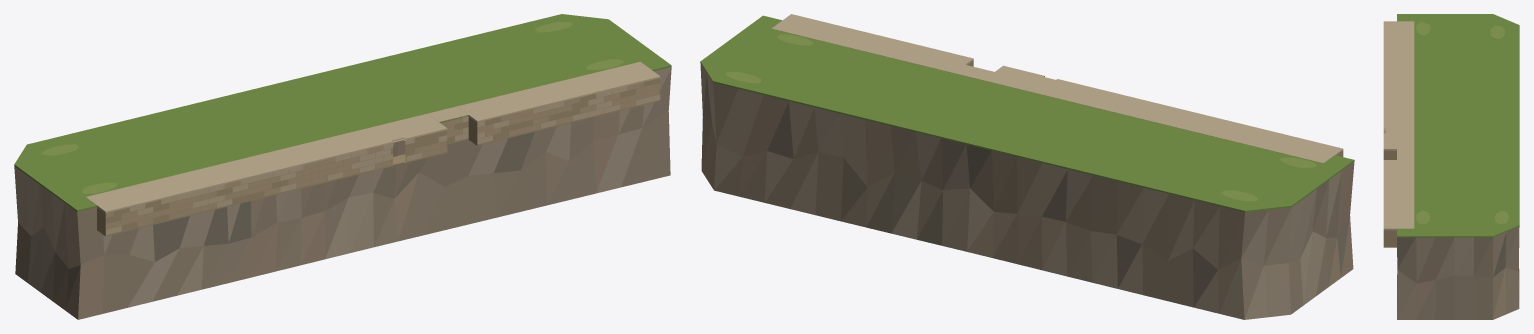
Rendered from alc_ground_summit.glb.
3 renders of one model, left to right at view 1: azimuth 30°, elevation 25°; view 2: azimuth 150°, elevation 25°; view 3: azimuth 270°, elevation 25°, orthographic. The views are drawn at different scales.
Visible parts, largest first — view 1: alc_ground_summit; view 2: alc_ground_summit; view 3: alc_ground_summit.
Part boxes in pixels (<box>): alc_ground_summit: <box>14,14,671,319</box>; alc_ground_summit: <box>700,14,1354,319</box>; alc_ground_summit: <box>1383,14,1519,319</box>.
Size of the model in its own units: 60 by 10.62 by 15.53.
